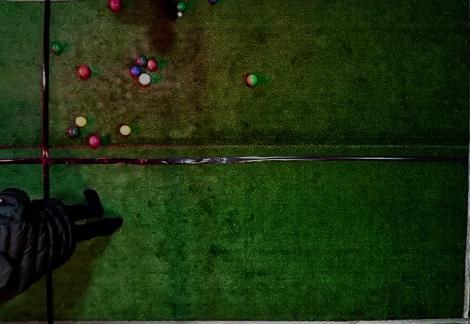blue: (131, 66, 141, 76), (207, 1, 218, 3)
green: (67, 127, 80, 138), (247, 74, 258, 86), (136, 56, 147, 67), (52, 43, 63, 53), (176, 2, 186, 12)
red: (77, 66, 91, 80), (89, 135, 101, 148), (139, 73, 151, 85), (108, 1, 122, 11), (147, 59, 158, 71)
vline: (1, 1, 51, 198), (1, 269, 55, 323), (461, 1, 469, 323)
white: (177, 12, 182, 17)
yellow: (75, 116, 87, 127), (120, 125, 131, 135)
